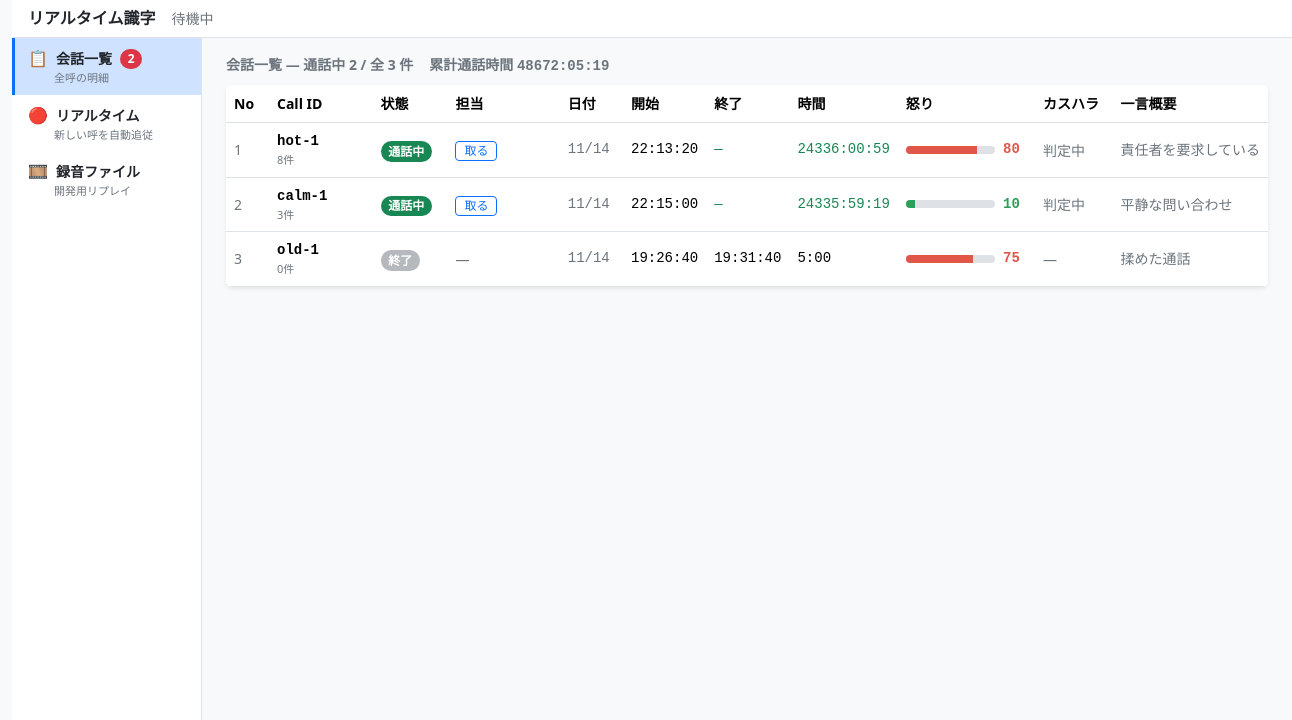
Test: 監視卓 › 「取る」で担当が付き、call_updatedで全画面に反映される
Expected: the button with test id "call-hot-1" is shown, [226, 122, 1268, 177]
Click the 1st button "取る".
click(476, 152)  # box [456, 142, 498, 162]
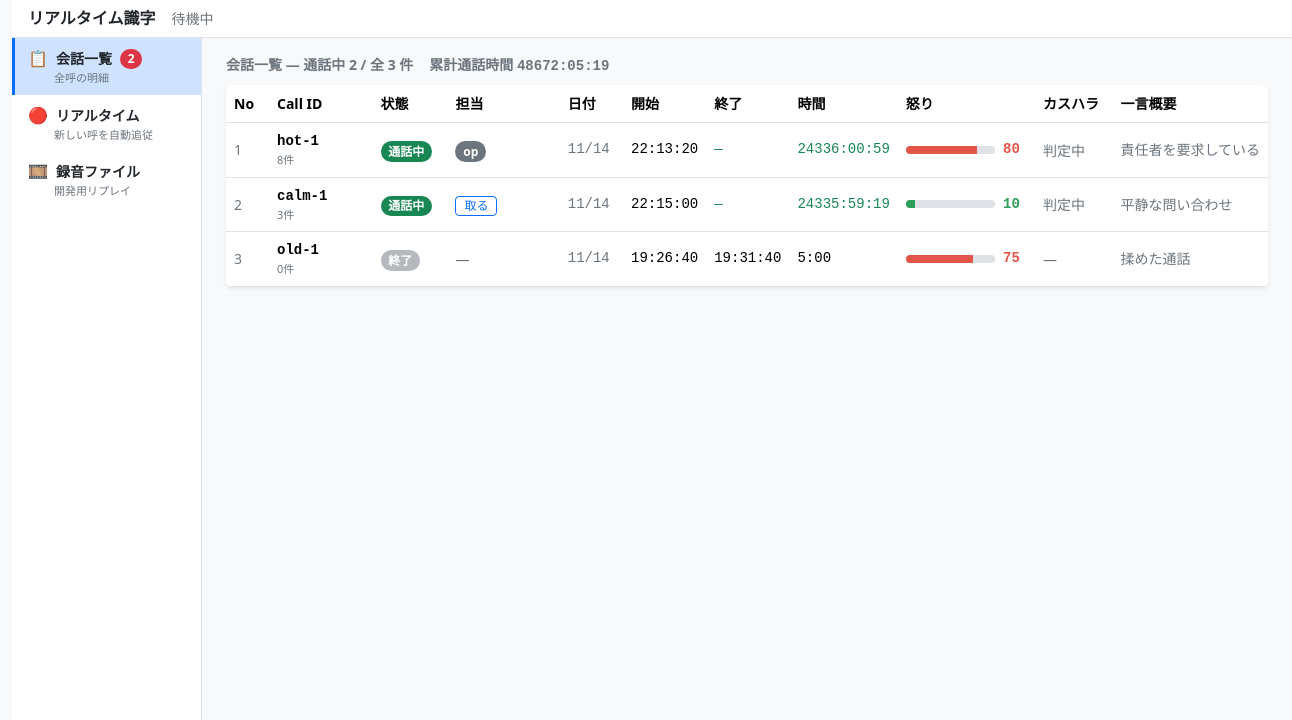
Expected: the text titled "op@example.com" is shown, [456, 142, 486, 162]
